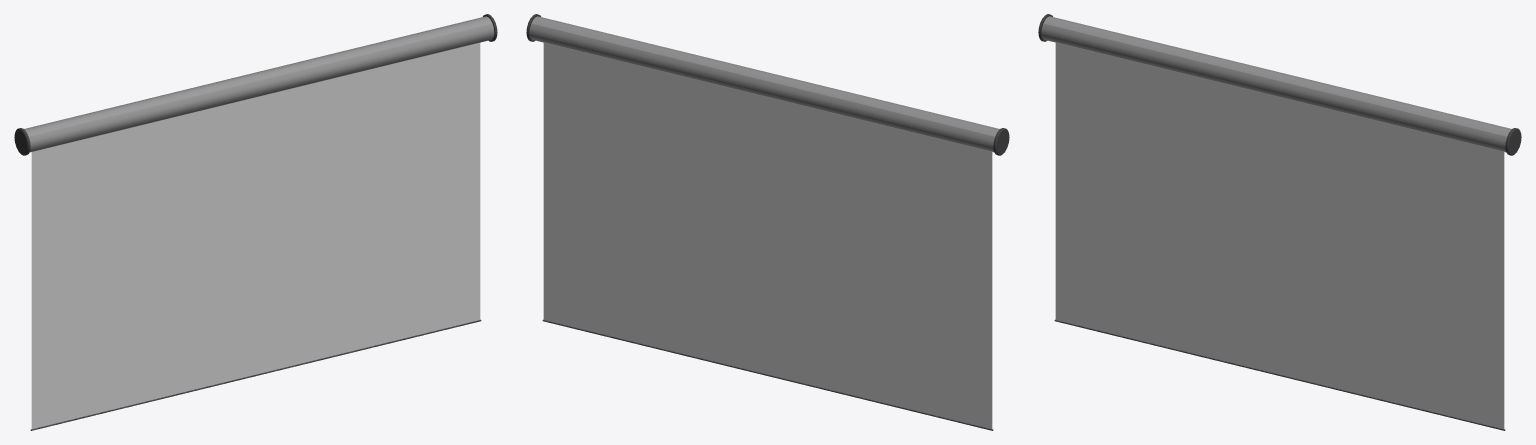
Rendered from Pantalla De Projector.glb.
3 renders of one model, left to right at view 1: azimuth 30°, elevation 25°; view 2: azimuth 150°, elevation 25°; view 3: azimuth 330°, elevation 25°, orthographic.
Visible parts, largest first — view 1: 067af79b-8d00-4c0e-9cd2-9be1a4ed0844, 53ff9a23-1f74-48dc-9992-6bd3c2759fe0, 90a72d75-726e-4213-8373-2de28f5aa6ec; view 2: 067af79b-8d00-4c0e-9cd2-9be1a4ed0844, 53ff9a23-1f74-48dc-9992-6bd3c2759fe0, 90a72d75-726e-4213-8373-2de28f5aa6ec; view 3: 067af79b-8d00-4c0e-9cd2-9be1a4ed0844, 53ff9a23-1f74-48dc-9992-6bd3c2759fe0, 90a72d75-726e-4213-8373-2de28f5aa6ec.
Boxes of the visible parts, x1,y1,x2,y2 form: 067af79b-8d00-4c0e-9cd2-9be1a4ed0844: [31, 43, 480, 429]; 53ff9a23-1f74-48dc-9992-6bd3c2759fe0: [24, 16, 494, 152]; 90a72d75-726e-4213-8373-2de28f5aa6ec: [30, 319, 481, 430]; 067af79b-8d00-4c0e-9cd2-9be1a4ed0844: [543, 43, 992, 429]; 53ff9a23-1f74-48dc-9992-6bd3c2759fe0: [529, 16, 999, 152]; 90a72d75-726e-4213-8373-2de28f5aa6ec: [542, 319, 993, 430]; 067af79b-8d00-4c0e-9cd2-9be1a4ed0844: [1055, 42, 1504, 429]; 53ff9a23-1f74-48dc-9992-6bd3c2759fe0: [1041, 16, 1511, 152]; 90a72d75-726e-4213-8373-2de28f5aa6ec: [1054, 319, 1505, 430].
Size of the model in its own units: 2.2 by 1.36 by 0.114.
3 materials, 1 textured.
